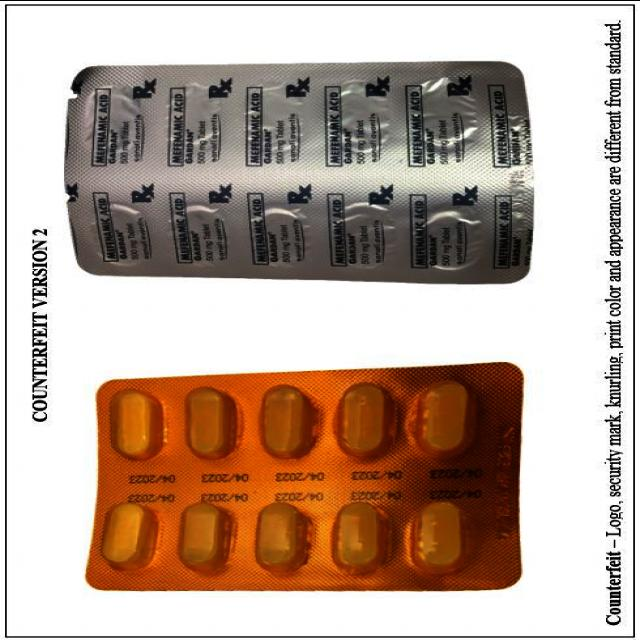counterfeit: (74, 356, 528, 594), (62, 55, 530, 279)
